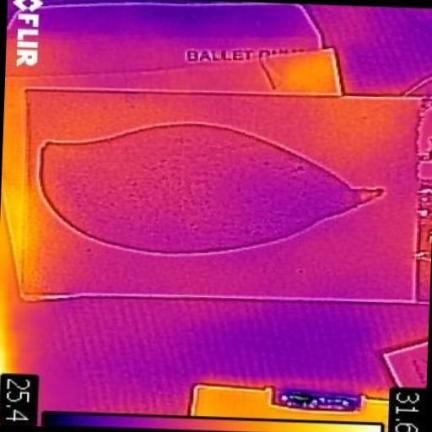mango: (41, 123, 383, 253)
